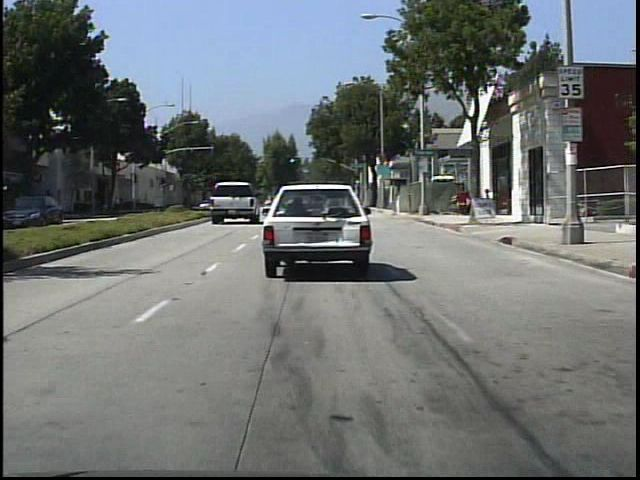car: (260, 189, 375, 280), (210, 177, 263, 225), (8, 195, 61, 228)
strada: (7, 278, 640, 478)
